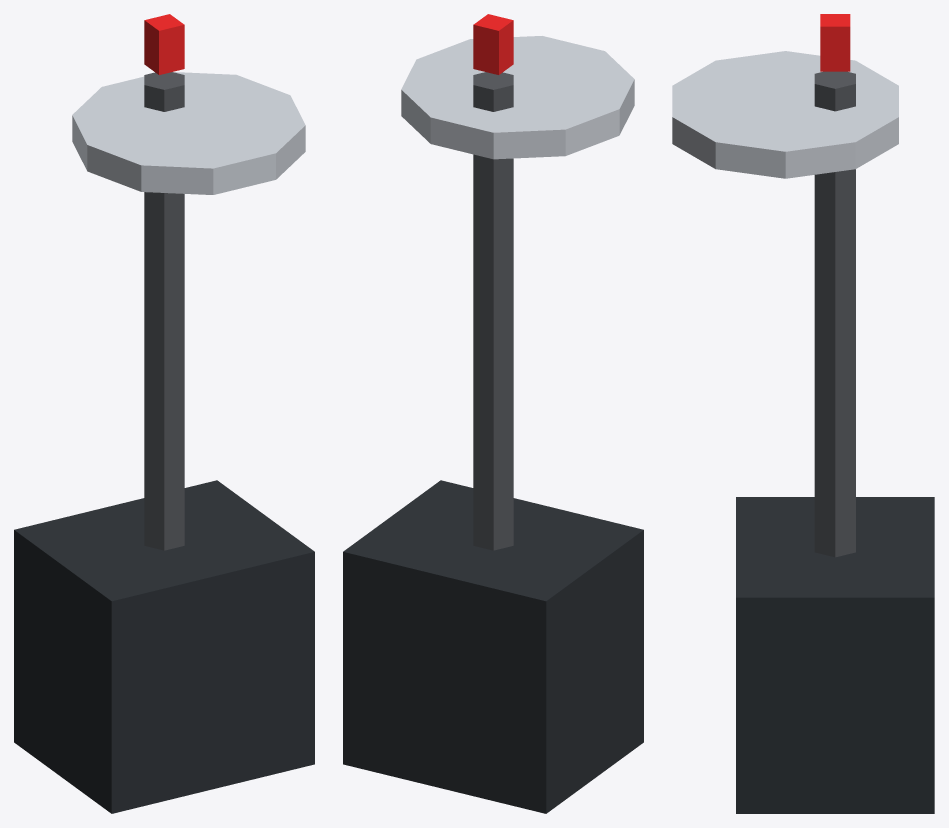
The model's file is radio_tower.obj.
The picture shows the model from 3 angles, left to right: view 1: azimuth 30°, elevation 25°; view 2: azimuth 150°, elevation 25°; view 3: azimuth 270°, elevation 25°; orthographic projection.
Size of the model in its own units: 1.2 by 4.12 by 1.32.
